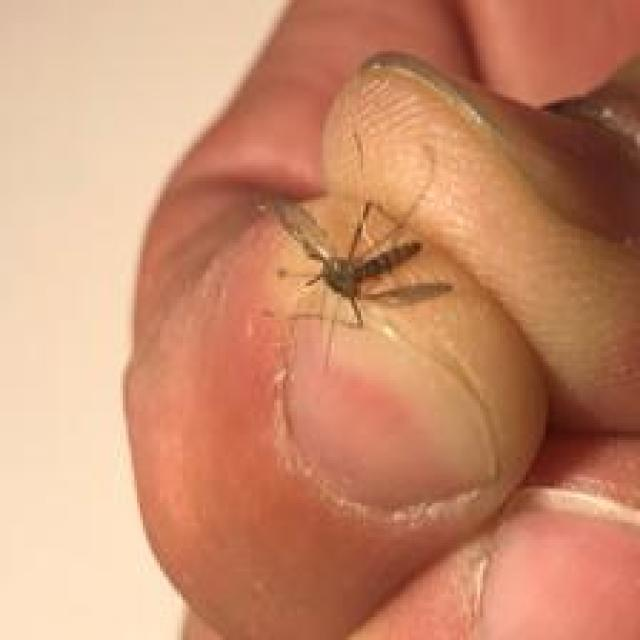Culex: (261, 190, 453, 330)
